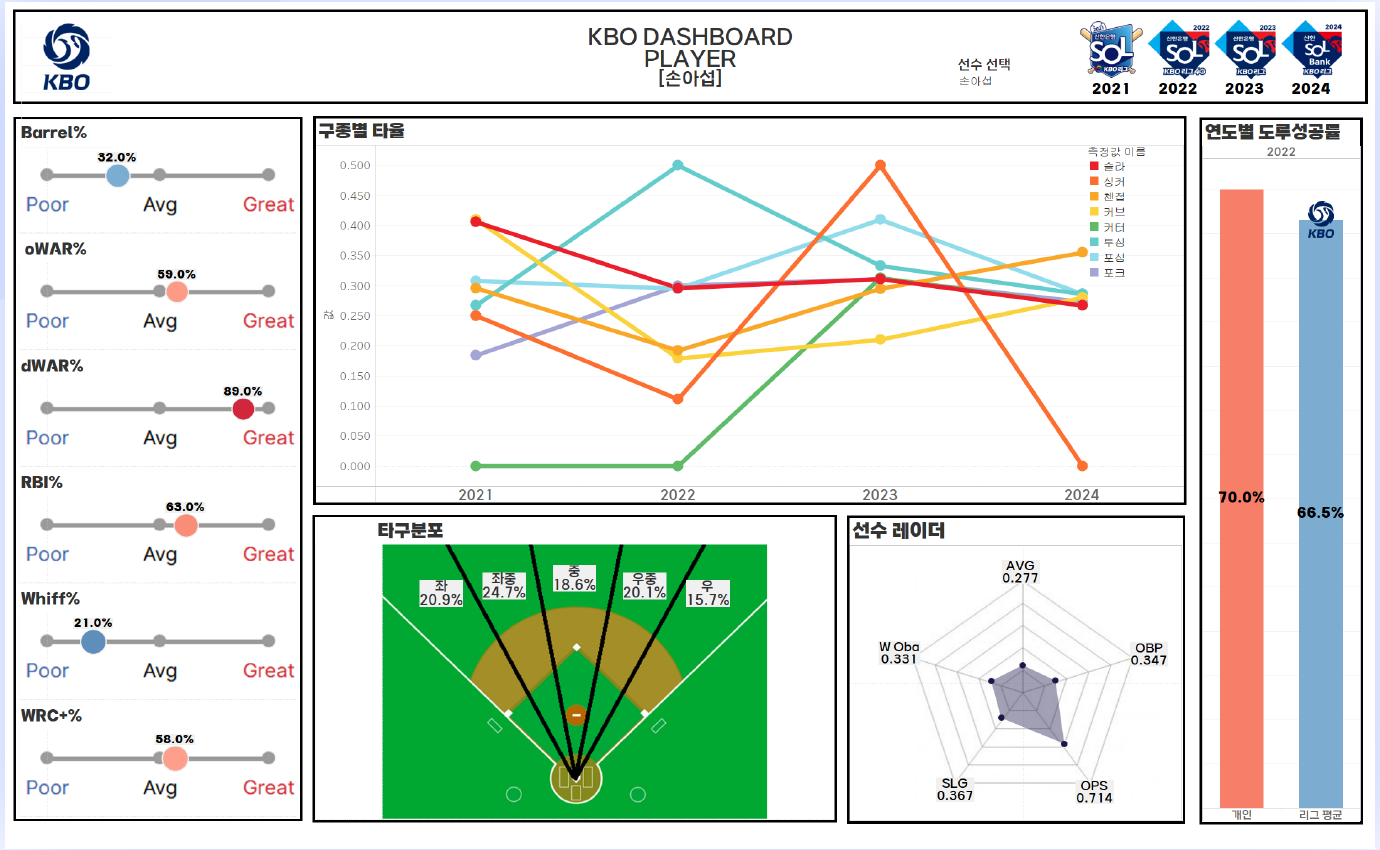

The dashboard page shown, as its layout file describes it:
{"tool":"tableau","page":{"name":"선수 대시보드","canvas":[1229,716],"ordinal":0},"visuals":[{"type":"title","box":[8.1,8,1212.7,88]},{"type":"worksheet","title":"시즌 로고","mark":"Shape","box":[1003.3,17,209.2,70]},{"type":"worksheet","title":"KBO 로고","mark":"Shape","rows":["Calculation_2028871685151023107"],"box":[13.9,22,74.3,103]},{"type":"parameter","param":"[Parameters].[매개 변수 3]","box":[831.9,23,155,40]},{"type":"worksheet","title":"구종별 타율","mark":"Line","cols":["연도"],"box":[275.5,96,781,306]},{"type":"worksheet","title":"연도별 도루성공률","mark":"Automatic","rows":["Calculation_1150669757020184576"],"cols":["연도"],"box":[1060.5,97,157.6,596]},{"type":"worksheet","title":"Barrel% ","mark":"Circle","rows":["Y"],"cols":["X"],"box":[15.9,100,250.7,98]},{"type":"legend","title":"구종별 타율","param":"[federated.1pspoqr038k3ly10zbn1202hjpys].[:Measure Names]","box":[979.2,102,72.4,77]},{"type":"worksheet","title":"oWAR% ","mark":"Circle","rows":["Y"],"cols":["X"],"box":[15.9,198,250.7,98]},{"type":"worksheet","title":"dWAR%","mark":"Circle","rows":["Y"],"cols":["X"],"box":[15.9,296,250.7,98]},{"type":"worksheet","title":"RBI%","mark":"Circle","rows":["Y"],"cols":["X"],"box":[15.9,394,250.7,98]},{"type":"worksheet","title":"타구분포","mark":"Text","rows":["Y"],"cols":["X"],"box":[275.5,405,392.5,288]},{"type":"worksheet","title":"선수 레이더","mark":"Polygon","box":[671,405,385.5,289]},{"type":"worksheet","title":"Whiff% ","mark":"Circle","rows":["Y"],"cols":["X"],"box":[15.9,492,250.7,98]},{"type":"worksheet","title":"WRC+% ","mark":"Circle","rows":["Y"],"cols":["X"],"box":[15.9,590,250.7,98]}]}

Visuals, with their boxes on the page's 1229x716 design canvas (x1, y1, x2, y2). These are canvas units, not pixel positions in the 1380x850 screenshot, which may show the page scaled, cropped or inside an application window:
title: [x1=8, y1=8, x2=1221, y2=96]
"시즌 로고" worksheet (Shape marks): [x1=1003, y1=17, x2=1212, y2=87]
"KBO 로고" worksheet (Shape marks): [x1=14, y1=22, x2=88, y2=125]
parameter: [x1=832, y1=23, x2=987, y2=63]
"구종별 타율" worksheet (Line marks): [x1=276, y1=96, x2=1056, y2=402]
"연도별 도루성공률" worksheet: [x1=1060, y1=97, x2=1218, y2=693]
"Barrel% " worksheet (Circle marks): [x1=16, y1=100, x2=267, y2=198]
"구종별 타율" legend: [x1=979, y1=102, x2=1052, y2=179]
"oWAR% " worksheet (Circle marks): [x1=16, y1=198, x2=267, y2=296]
"dWAR%" worksheet (Circle marks): [x1=16, y1=296, x2=267, y2=394]
"RBI%" worksheet (Circle marks): [x1=16, y1=394, x2=267, y2=492]
"타구분포" worksheet (Text marks): [x1=276, y1=405, x2=668, y2=693]
"선수 레이더" worksheet (Polygon marks): [x1=671, y1=405, x2=1056, y2=694]
"Whiff% " worksheet (Circle marks): [x1=16, y1=492, x2=267, y2=590]
"WRC+% " worksheet (Circle marks): [x1=16, y1=590, x2=267, y2=688]
